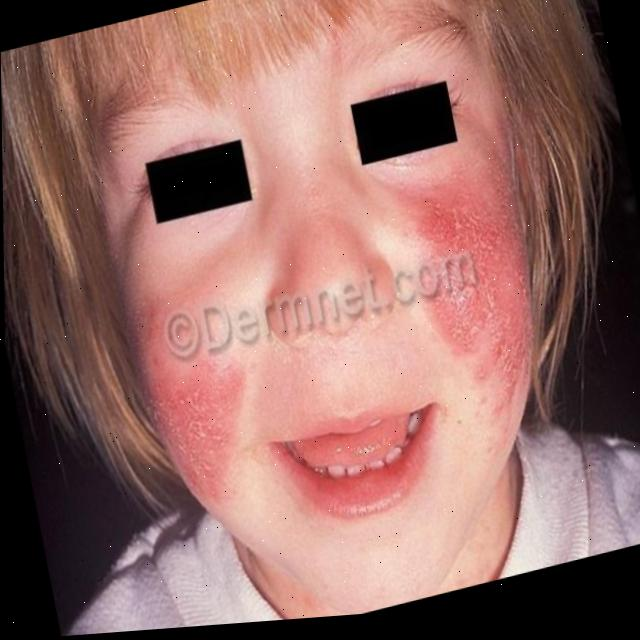Eczema: (148, 283, 263, 484), (419, 189, 537, 377)
